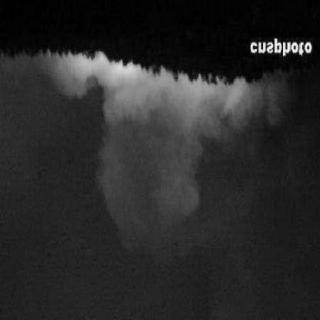Fire: (68, 48, 142, 78)
